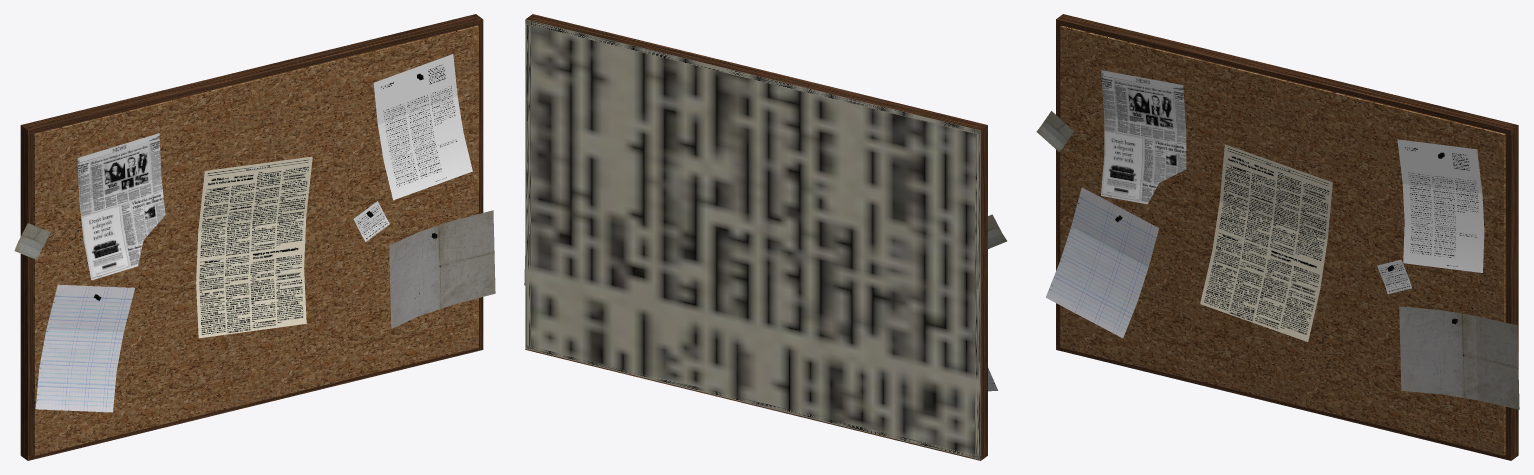
File: WallDocument.fbx
The picture shows the model from 3 angles, left to right: view 1: azimuth 30°, elevation 25°; view 2: azimuth 150°, elevation 25°; view 3: azimuth 330°, elevation 25°; orthographic projection.
Visible parts, largest first — view 1: Cube.028; view 2: Cube.028; view 3: Cube.028.
Part boxes in pixels (bbox=[...]): Cube.028: bbox=[14, 14, 495, 460]; Cube.028: bbox=[524, 14, 1006, 460]; Cube.028: bbox=[1036, 14, 1519, 460].
Size of the model in its own units: 318 by 208 by 23.5.
